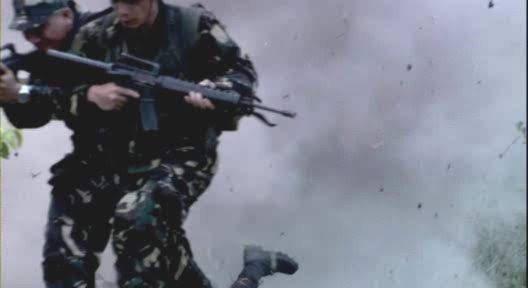gun: (38, 37, 302, 136)
